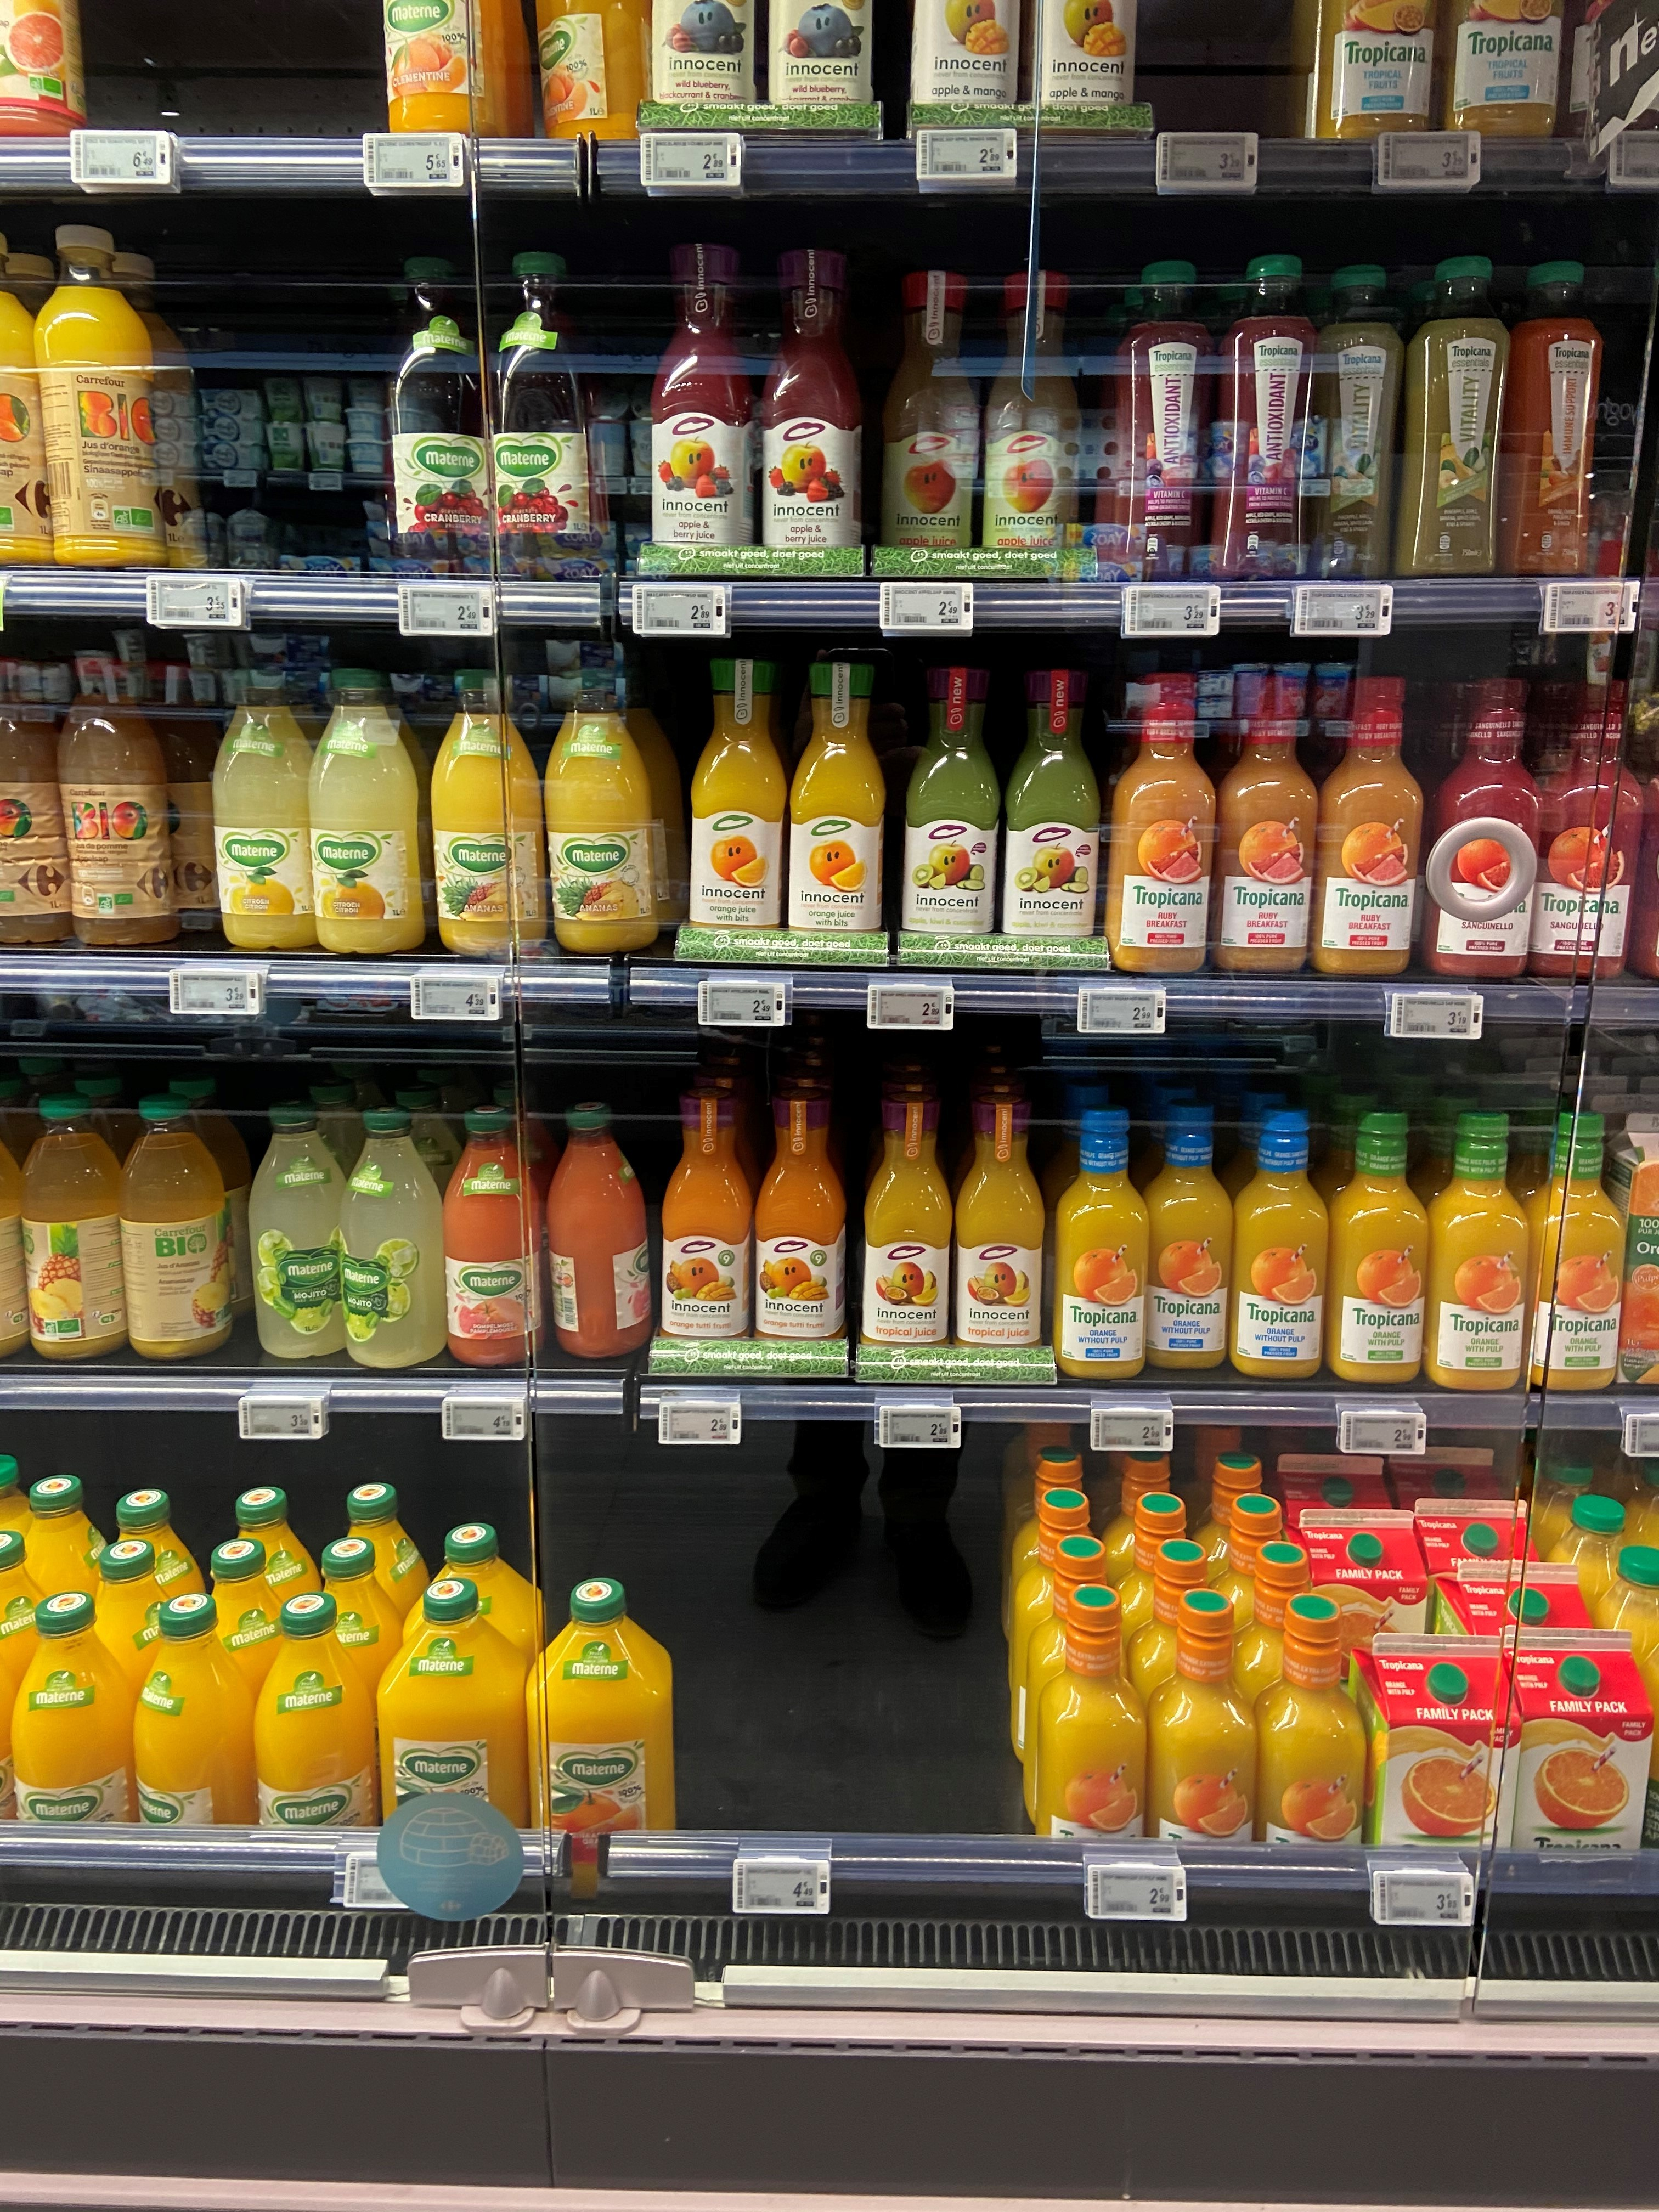CarrefourBioAnanassap: (120, 1090, 232, 1360), (17, 1090, 125, 1364)
CarrefourBioAppelsap1L: (58, 664, 181, 949), (0, 655, 71, 946)
CarrefourBioSinaasappelsap1L: (33, 225, 167, 571)
InnocentApple: (877, 270, 978, 568), (981, 272, 1084, 561)
InnocentAppleBerry: (648, 240, 760, 564), (763, 247, 864, 568)
InnocentAppleKiwiCucumber: (999, 667, 1101, 956), (904, 665, 1002, 942)
InnocentAppleMango: (1012, 0, 1140, 125), (904, 2, 1021, 129)
InnocentOrangeTuttiFrutti: (755, 1087, 852, 1353), (659, 1087, 755, 1352)
InnocentOrangeWithBits: (688, 657, 789, 946), (791, 660, 885, 946)
InnocentTropicalJuice: (859, 1090, 955, 1362), (955, 1092, 1046, 1366)
MaterneAnanas: (429, 671, 545, 961), (542, 671, 659, 953)
MaterneCitroen: (308, 669, 420, 953), (211, 678, 317, 949)
MaterneClementine: (378, 2, 498, 139), (533, 2, 640, 134)
MaterneCranberry: (488, 249, 603, 575), (389, 253, 493, 583)
MaterneMojito: (342, 1104, 448, 1371), (247, 1101, 349, 1360)
MaternePompelmoes: (443, 1104, 545, 1367), (547, 1101, 652, 1359)
MaterneSinaasappel1,5L: (373, 1576, 530, 1898), (526, 1576, 681, 1902)
MaterneSinaasappel1L: (125, 1590, 256, 1878), (249, 1594, 378, 1885), (5, 1590, 132, 1881)
TropicanaAntiOxidant: (1213, 253, 1316, 578), (1115, 260, 1215, 575)
TropicanaImmuneSupport: (1499, 260, 1605, 582)
TropicanaOrangeExtraPulp: (1032, 1583, 1150, 1888), (1253, 1594, 1371, 1898), (1145, 1588, 1262, 1892)
TropicanaOrangeWithPulpBrik: (1349, 1632, 1525, 1911), (1500, 1623, 1657, 1909)
TropicanaOrangeWithPulpFles: (1424, 1104, 1532, 1388), (1321, 1106, 1427, 1385), (1525, 1111, 1624, 1395)
TropicanaOrangeWithoutPulp: (1229, 1106, 1331, 1381), (1054, 1104, 1147, 1381), (1143, 1099, 1234, 1371)
TropicanaRubyBreakfast: (1314, 676, 1427, 979), (1107, 671, 1218, 975), (1213, 672, 1316, 974)
TropicanaSanguinello: (1425, 678, 1546, 981), (1535, 672, 1643, 979)
TropicanaVitality: (1394, 254, 1513, 578), (1310, 265, 1405, 577)
